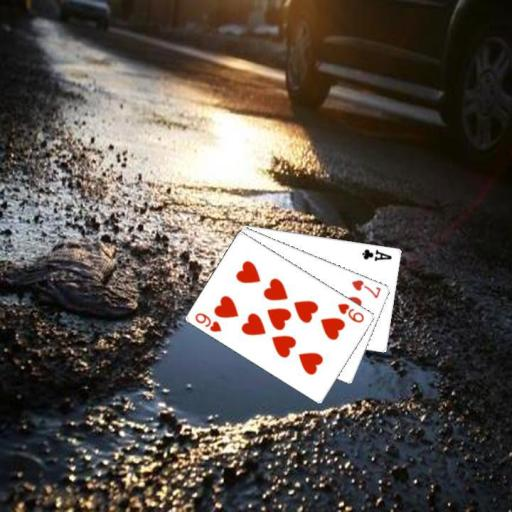7H: (349, 277, 383, 300)
9H: (192, 310, 223, 334), (335, 300, 365, 324)
AC: (359, 246, 393, 263)
